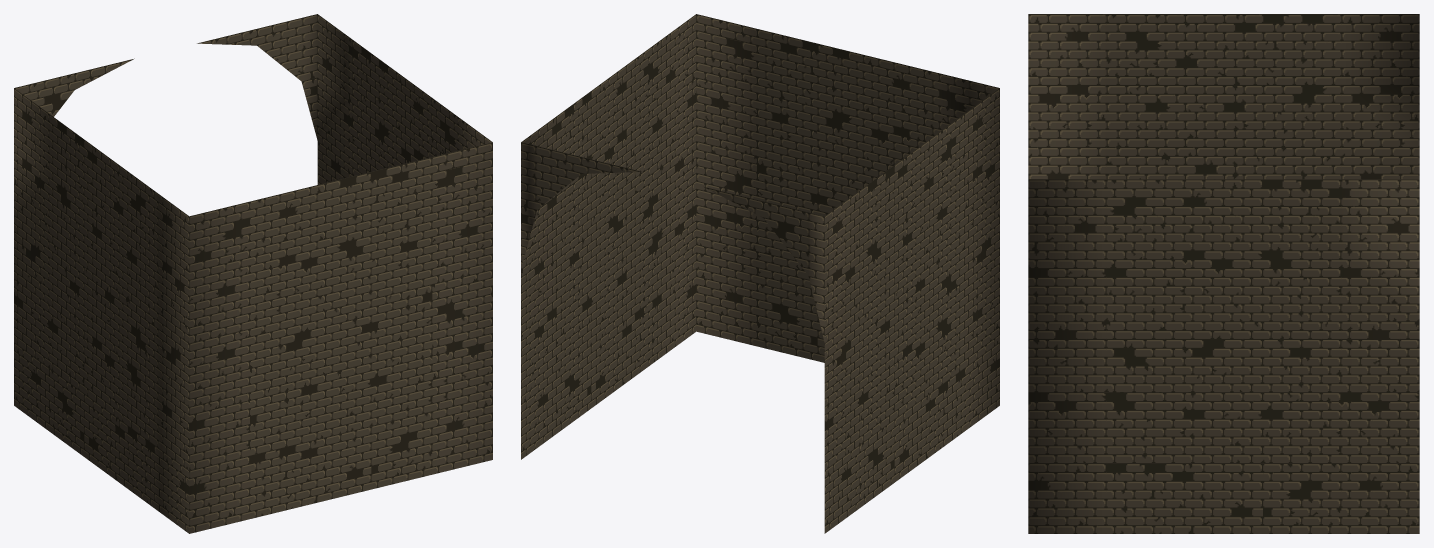
Rendered from BoxArc.fbx.
3 renders of one model, left to right at view 1: azimuth 30°, elevation 25°; view 2: azimuth 150°, elevation 25°; view 3: azimuth 270°, elevation 25°, orthographic. The views are drawn at different scales.
Visible parts, largest first — view 1: BoxArc; view 2: BoxArc; view 3: BoxArc.
Part boxes in pixels (x1=…): BoxArc: x1=14, y1=14, x2=492, y2=533; BoxArc: x1=521, y1=14, x2=999, y2=533; BoxArc: x1=1028, y1=14, x2=1419, y2=533.
Bounding box in the file's own units: 1000 × 1000 × 1000.
